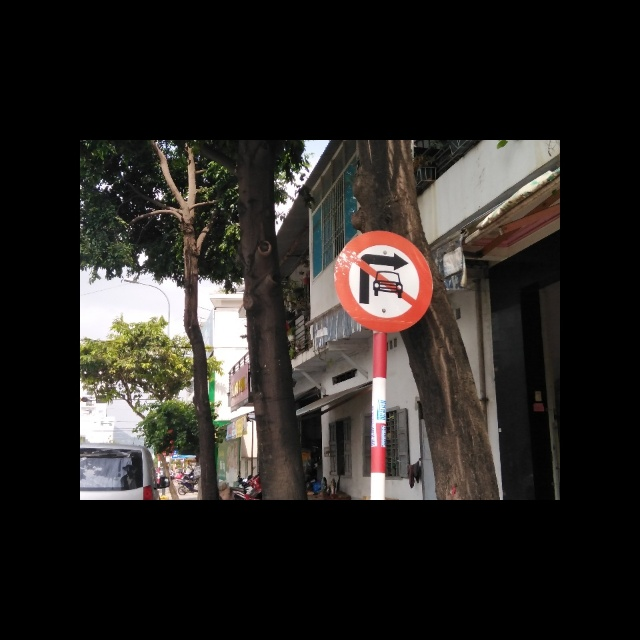Cấm xe ô tô rẽ trái: (331, 230, 434, 334)
